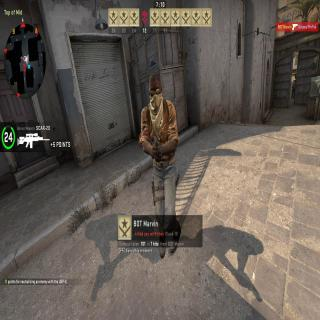T-Body: (138, 73, 184, 256)
T-Head: (148, 74, 162, 106)
